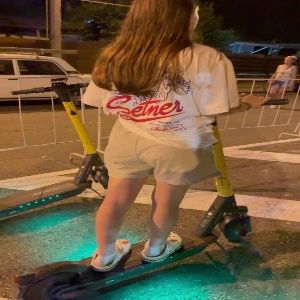human on a scooter: (8, 1, 289, 300)
